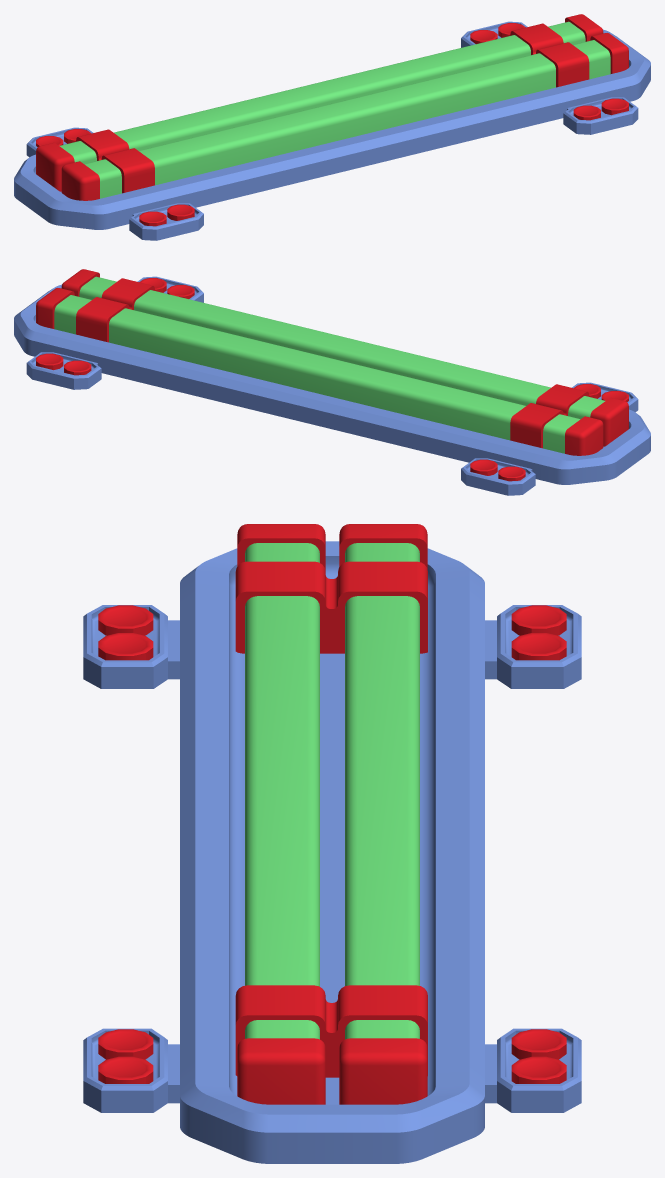
Rendered from StripLight.fbx.
3 renders of one model, top to bottom at view 1: azimuth 30°, elevation 25°; view 2: azimuth 150°, elevation 25°; view 3: azimuth 270°, elevation 25°, orthographic. The views are drawn at different scales.
Parts seen in each view (by area): view 1: LightCasing; view 2: LightCasing; view 3: LightCasing.
Boxes of the visible parts, x1,y1,x2,y2 form: LightCasing: (14, 14, 650, 240); LightCasing: (14, 269, 650, 495); LightCasing: (83, 524, 581, 1163).
Size of the model in its own units: 220 by 14.45 by 79.12.
